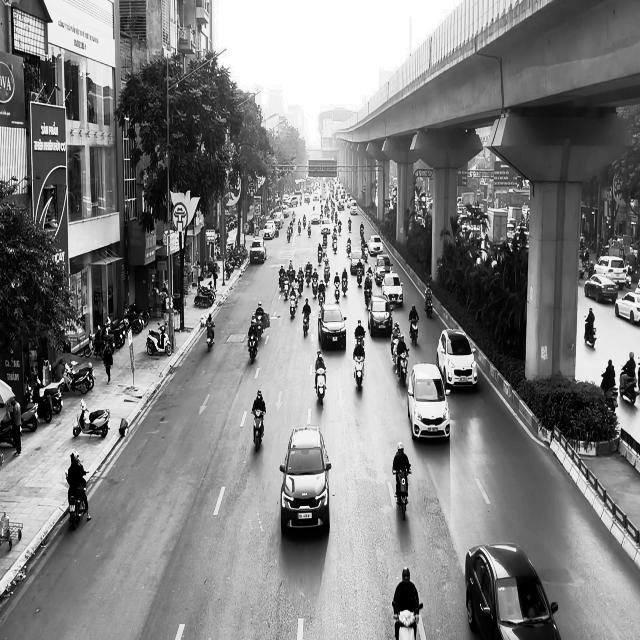car: (464, 542, 562, 640), (279, 425, 332, 534), (407, 363, 450, 440), (436, 328, 478, 392), (318, 303, 347, 350), (367, 296, 393, 336), (614, 290, 640, 325)
motorbike: (72, 398, 110, 438), (64, 468, 88, 528), (392, 601, 423, 639), (392, 467, 411, 520), (145, 322, 172, 356), (251, 409, 265, 451), (396, 349, 409, 386), (583, 318, 597, 348), (315, 367, 326, 405), (202, 319, 215, 351), (353, 354, 364, 390), (248, 331, 258, 364), (408, 316, 418, 346), (424, 291, 433, 318), (302, 310, 310, 336)
